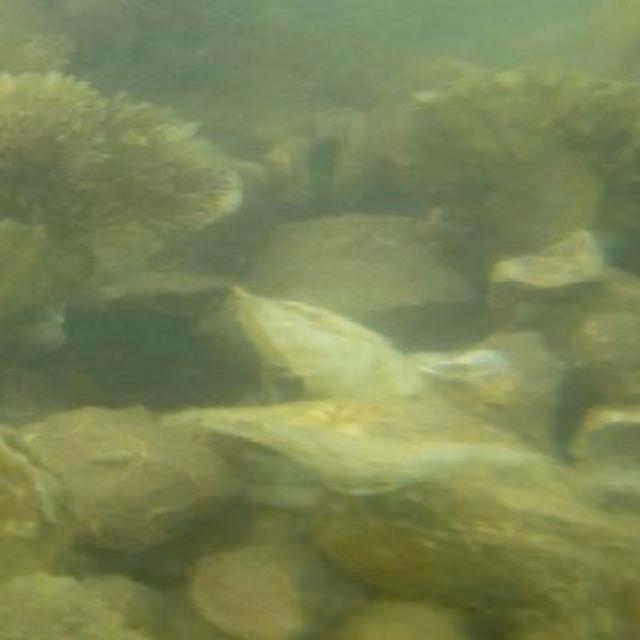Oyster-Closed: (175, 398, 583, 546), (0, 402, 232, 547), (249, 216, 489, 350), (236, 285, 427, 399), (64, 270, 243, 344), (196, 546, 308, 640), (489, 230, 603, 287), (339, 601, 465, 640)
Oyster-Open: (264, 128, 370, 202), (572, 404, 640, 516)
